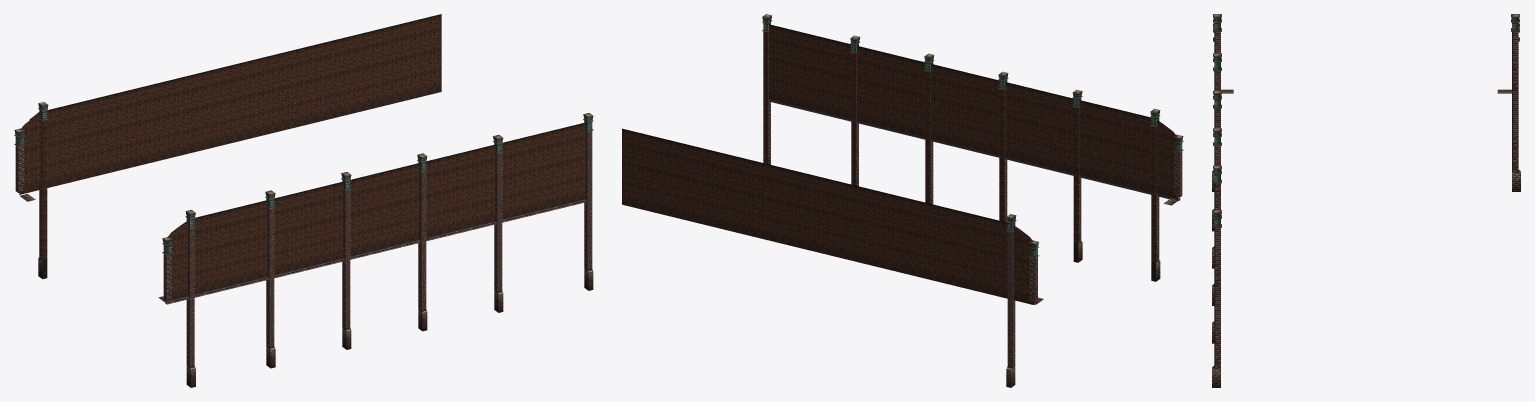
The model's file is EnvBdgMD_Factory_A_Outdoor_RoofTop_D_Back.FBX.
3 views of the same model, side by side, from view 1: azimuth 30°, elevation 25°; view 2: azimuth 150°, elevation 25°; view 3: azimuth 270°, elevation 25° (orthographic). The views are drawn at different scales.
Visible parts, largest first — view 1: EnvBdgMD_Factory_A_Outdoor_RoofTop_D_Back; view 2: EnvBdgMD_Factory_A_Outdoor_RoofTop_D_Back; view 3: EnvBdgMD_Factory_A_Outdoor_RoofTop_D_Back.
Part boxes in pixels (<box>): EnvBdgMD_Factory_A_Outdoor_RoofTop_D_Back: <box>14,14,593,387</box>; EnvBdgMD_Factory_A_Outdoor_RoofTop_D_Back: <box>622,14,1183,387</box>; EnvBdgMD_Factory_A_Outdoor_RoofTop_D_Back: <box>1212,14,1520,387</box>.
Size of the model in its own units: 4510 by 1748 by 2790.
